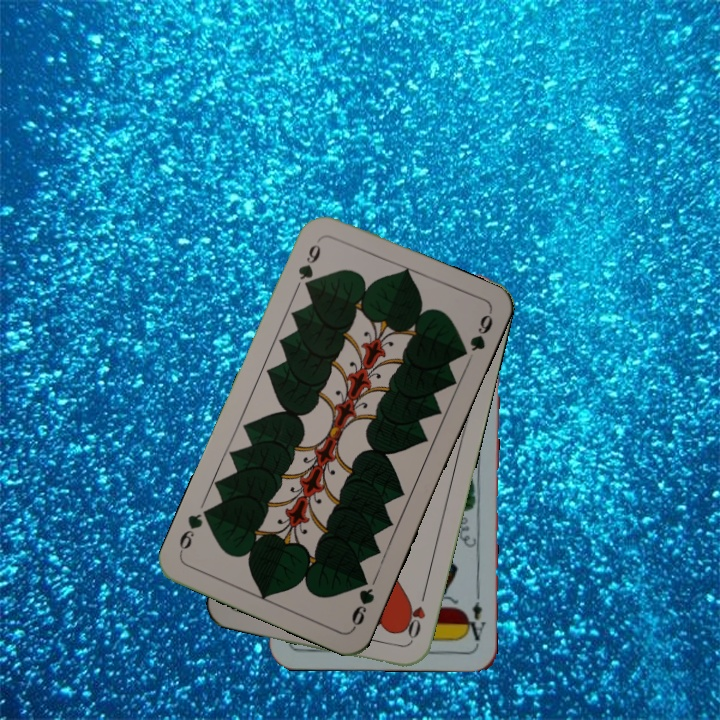EA: (462, 586, 488, 643)
G9: (347, 572, 377, 632), (294, 240, 324, 293)
HO: (399, 588, 429, 646)
